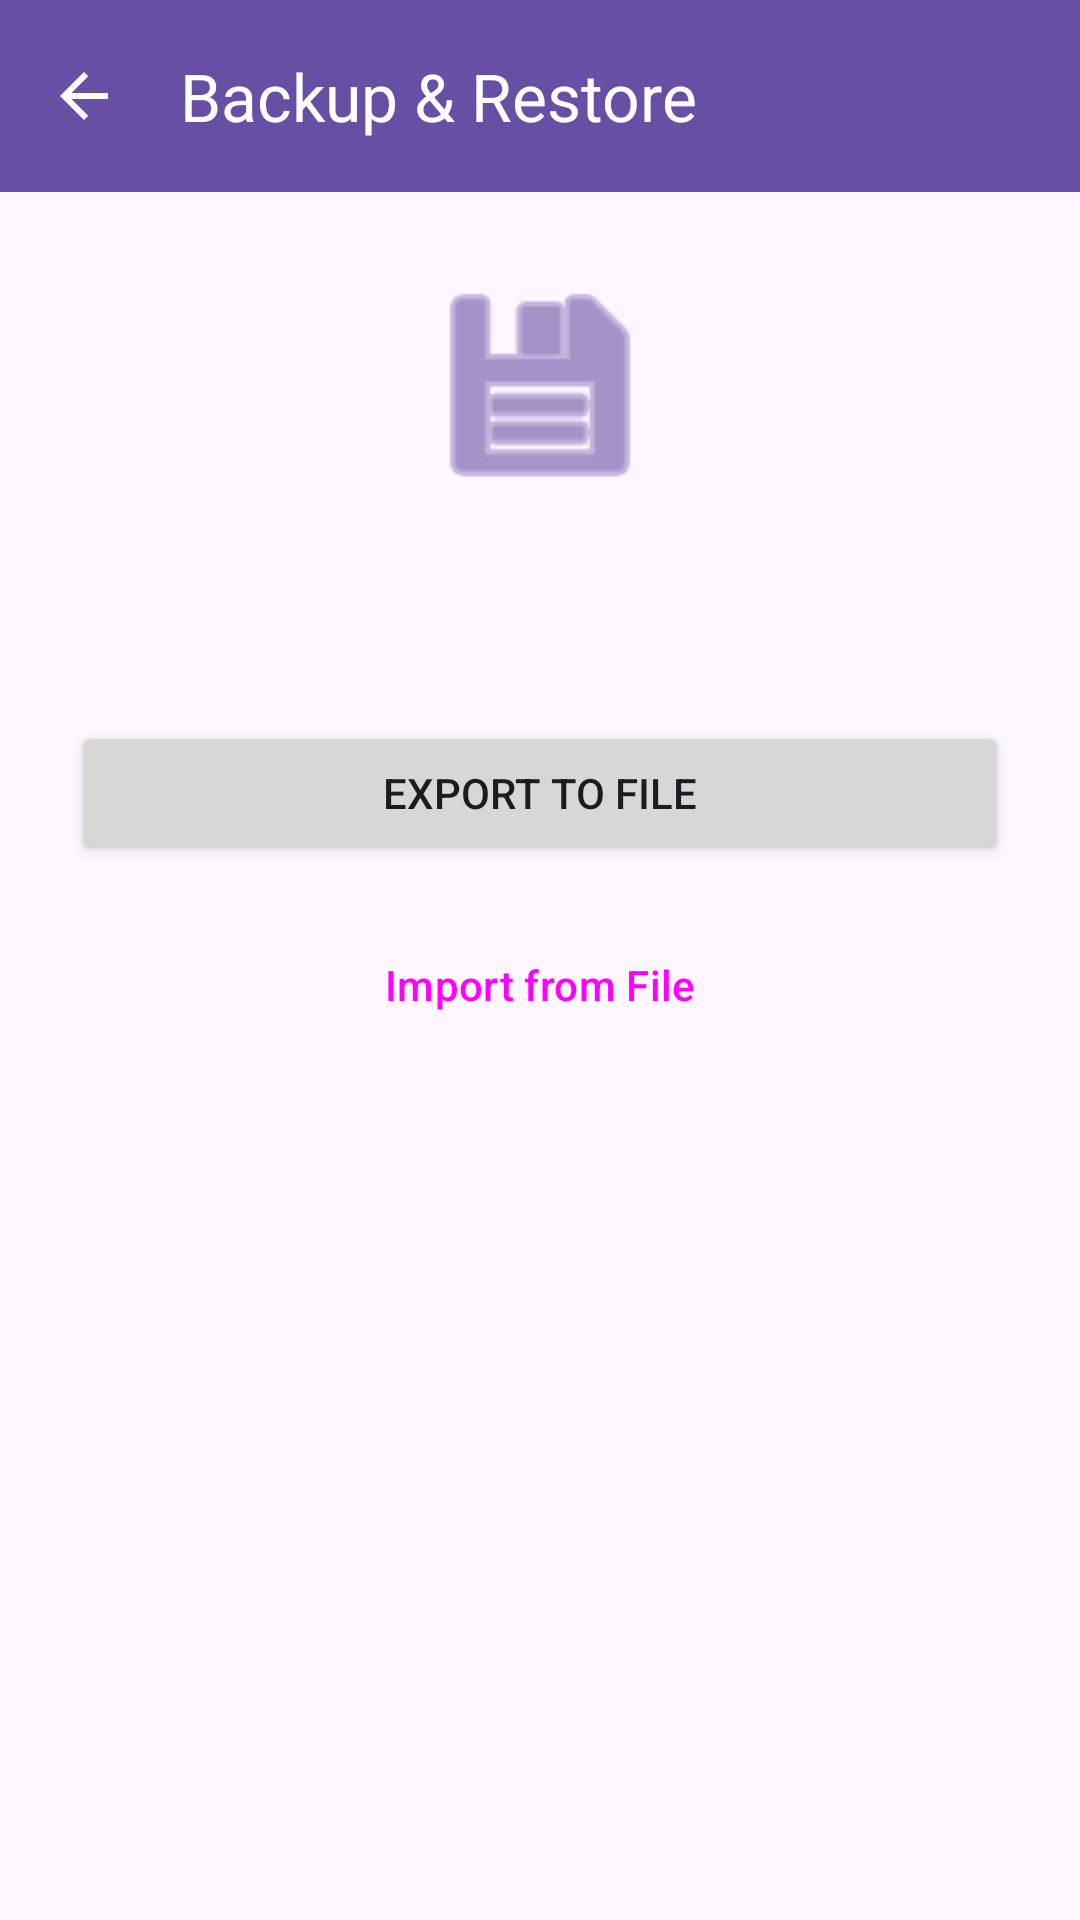

Locate icon controls on the screen. Image size 1080w x 1920h, boxes as (x1, y1, x2, y2).
save: (450, 294, 630, 477)
